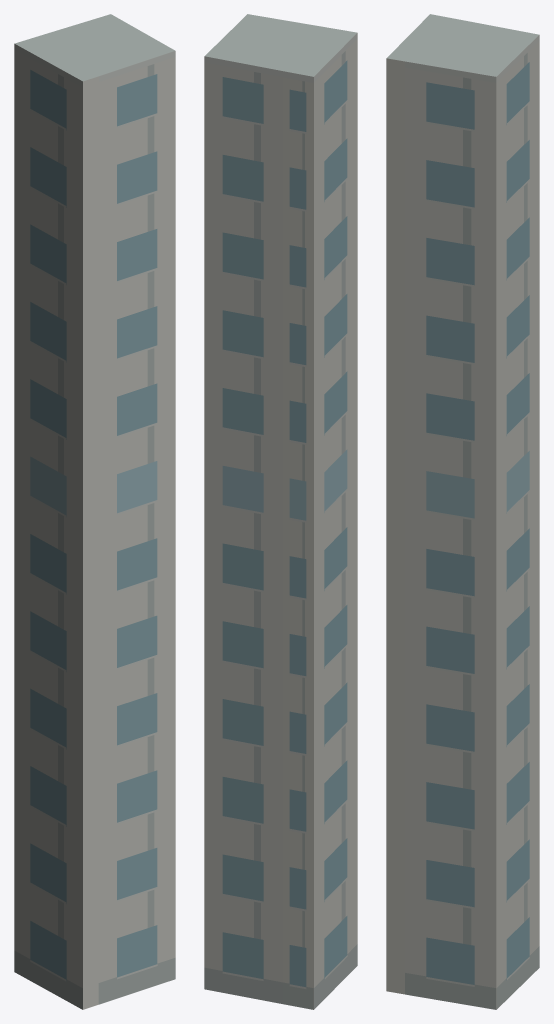
Rendered from survey-upis-32634809.glb.
The picture shows the model from 3 angles, left to right: view 1: azimuth 30°, elevation 25°; view 2: azimuth 150°, elevation 25°; view 3: azimuth 330°, elevation 25°; orthographic projection.
Visible parts, largest first — view 1: survey-upis-32634809.tmp; view 2: survey-upis-32634809.tmp; view 3: survey-upis-32634809.tmp.
Boxes of the visible parts, bbox=[...] form: survey-upis-32634809.tmp: bbox=[14, 14, 175, 1009]; survey-upis-32634809.tmp: bbox=[204, 14, 357, 1009]; survey-upis-32634809.tmp: bbox=[386, 14, 539, 1009].
Bounding box in the file's own units: 4.7 × 36.6 × 4.45.
